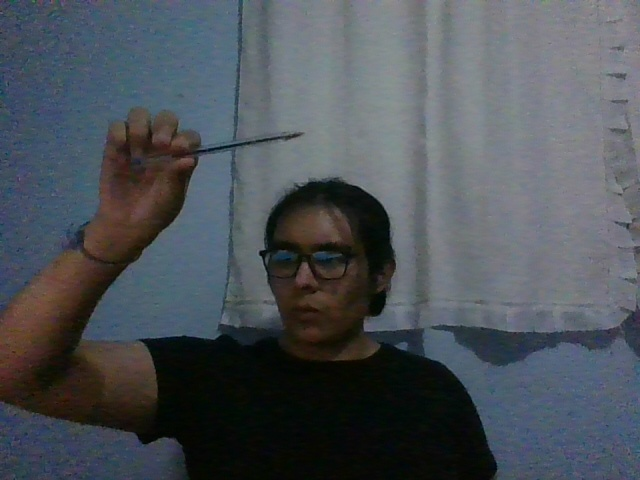pluma: (129, 130, 305, 167)
